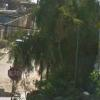Palm tree: (30, 1, 91, 93)
